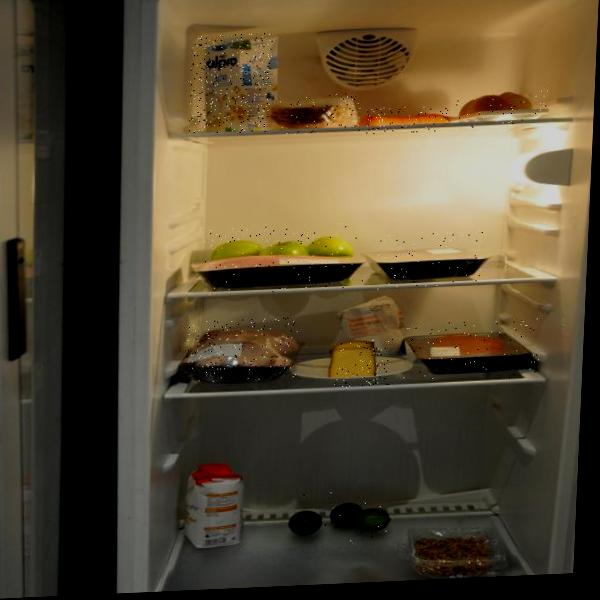apple: (203, 223, 358, 271)
bread: (276, 92, 361, 135)
carrots: (365, 105, 448, 135)
cheese: (334, 339, 393, 389)
chicken: (185, 317, 298, 383)
eggs: (454, 90, 549, 133)
lime: (294, 489, 388, 544)
meat: (401, 317, 541, 383), (206, 244, 365, 296), (375, 231, 484, 291)
milk: (188, 33, 273, 135)
